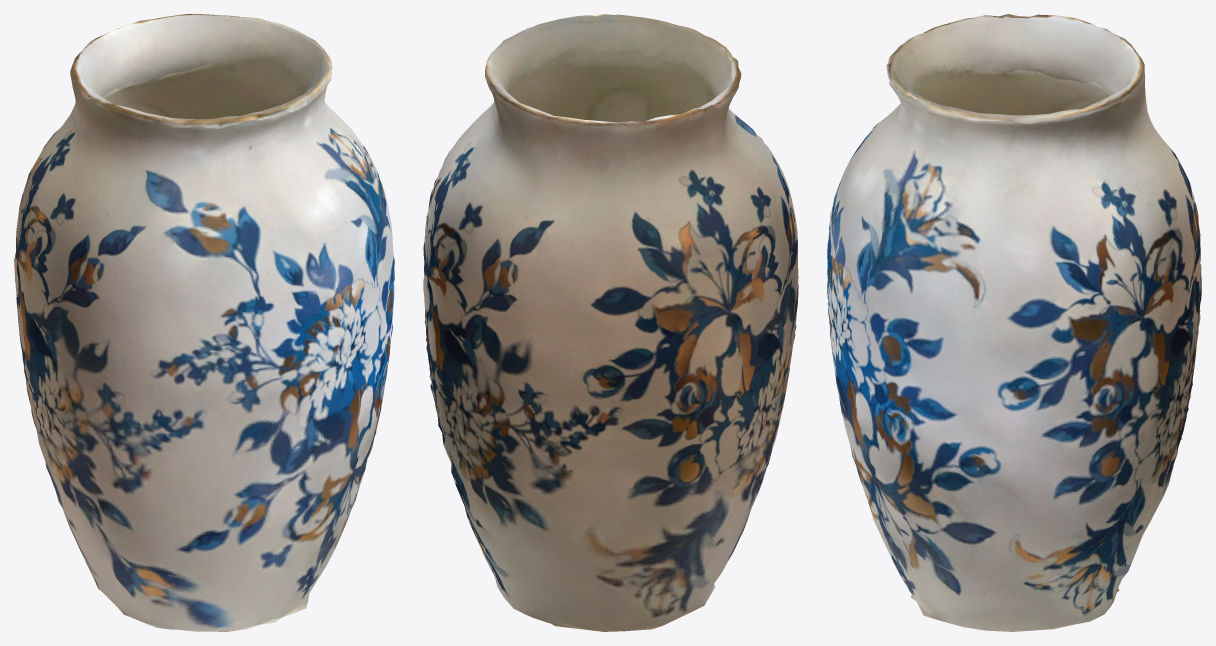
The model's file is ancient_vase_gold-blue-white.glb.
3 views of the same model, side by side, from view 1: azimuth 30°, elevation 25°; view 2: azimuth 150°, elevation 25°; view 3: azimuth 270°, elevation 25° (orthographic).
Visible parts, largest first — view 1: Object_4; view 2: Object_4; view 3: Object_4.
Part boxes in pixels (x1=…): Object_4: x1=14, y1=14, x2=394, y2=631; Object_4: x1=423, y1=14, x2=798, y2=631; Object_4: x1=827, y1=14, x2=1201, y2=631.
Size of the model in its own units: 0.2753 by 0.4206 by 0.2722.
Materials: 1 (1 with a texture image).
